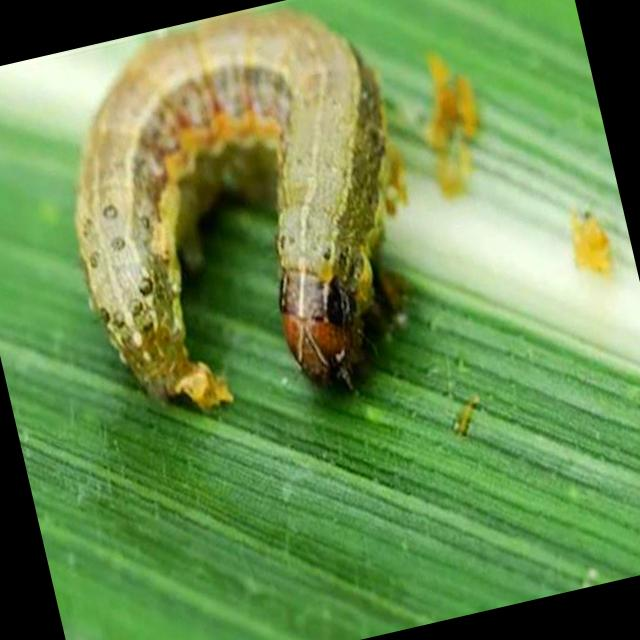pest: (31, 1, 446, 435)
